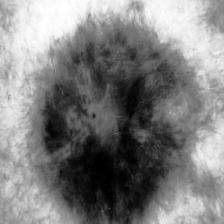Benign Marking or Mole: (24, 14, 194, 211)
